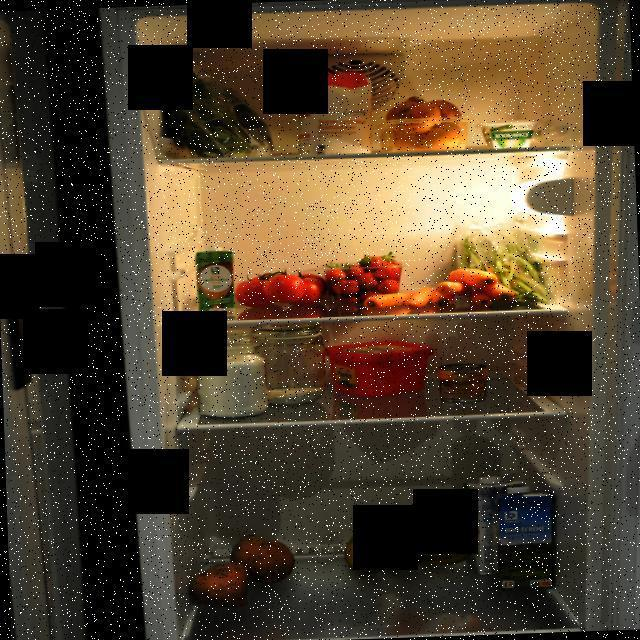banana: (341, 508, 474, 576)
butter: (320, 337, 436, 399)
carrot: (428, 266, 518, 310), (362, 284, 433, 312)
corn: (438, 362, 490, 404)
flour: (242, 321, 332, 409)
goat_cheese: (472, 117, 546, 149)
green_beans: (446, 212, 556, 314)
heavy_cream: (194, 244, 237, 320)
milk: (458, 472, 532, 578), (490, 483, 560, 592)
onion: (369, 94, 466, 152)
spinach: (138, 56, 286, 162)
strawberries: (324, 253, 402, 304)
sugar: (294, 70, 376, 156), (192, 327, 268, 419)
sweet_potato: (189, 531, 298, 611)
tomato: (234, 266, 327, 310)
